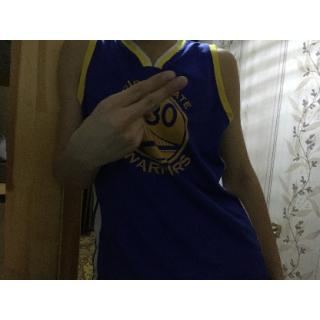AYN: (60, 68, 188, 171)
